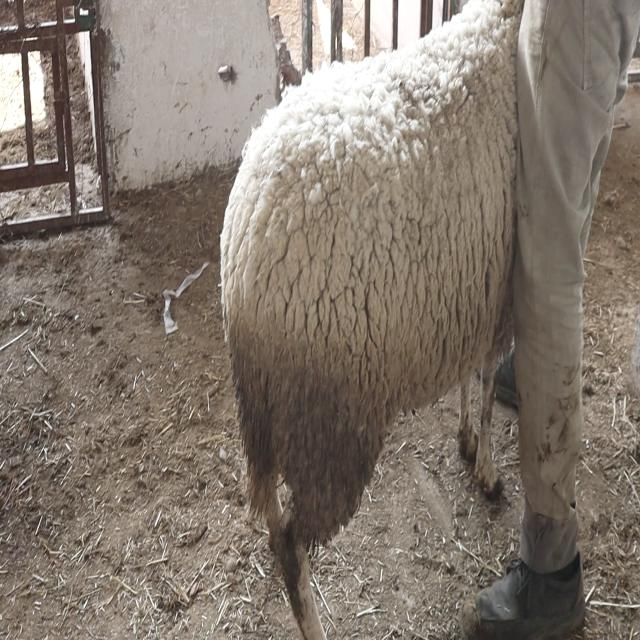Score_5: (220, 0, 640, 639)
